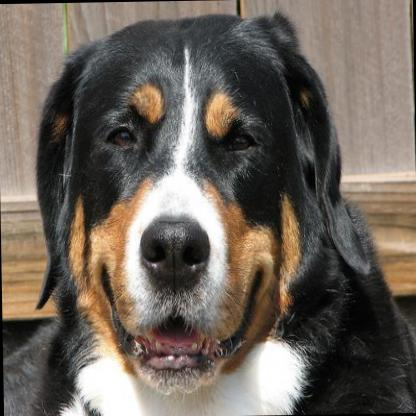Greater_Swiss_Mountain_dog: (0, 5, 416, 416)
